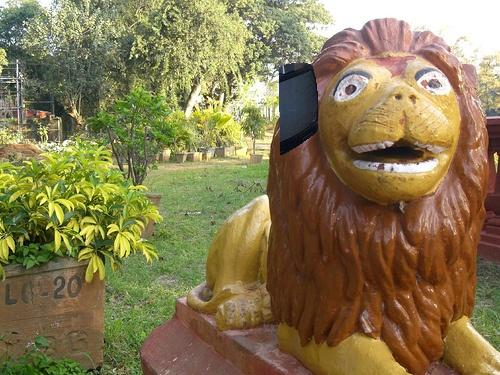tampered: (280, 63, 318, 155)
